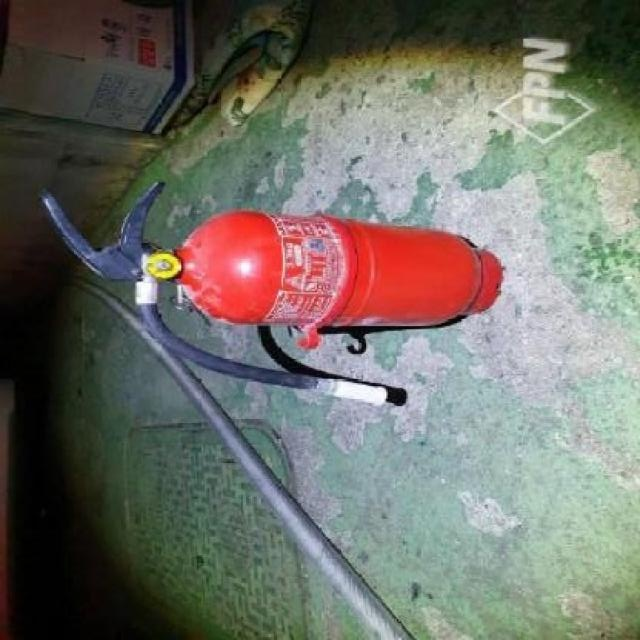fire extinguisher: (35, 180, 503, 406)
